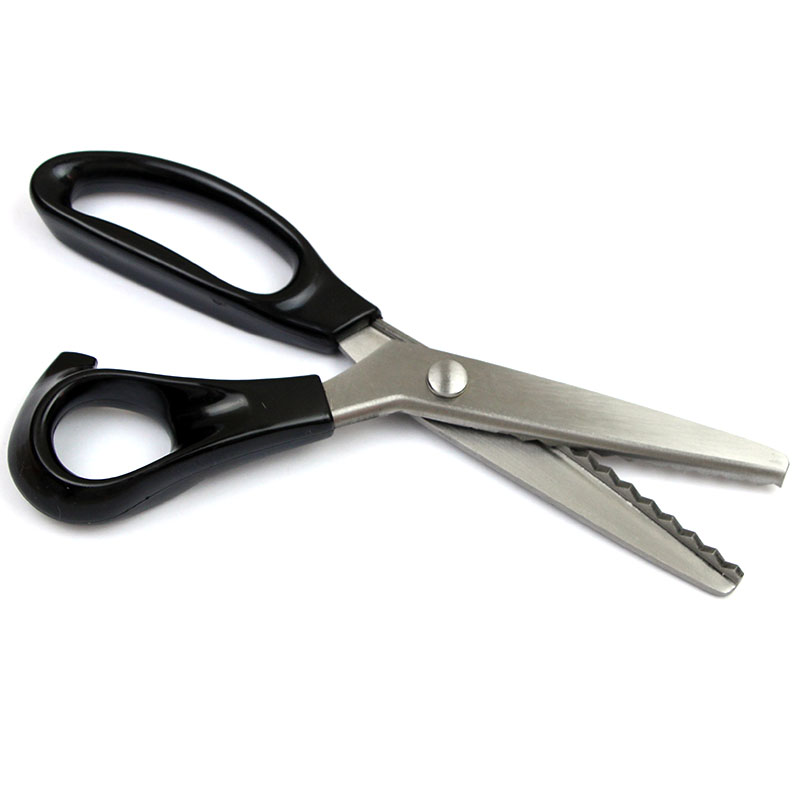scissors: (5, 144, 794, 615)
